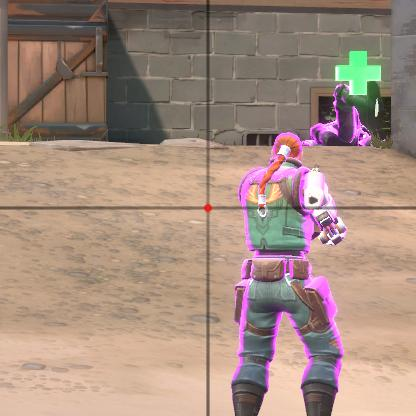enemyBody: (239, 171, 327, 302)
enemyHead: (271, 131, 308, 169)
